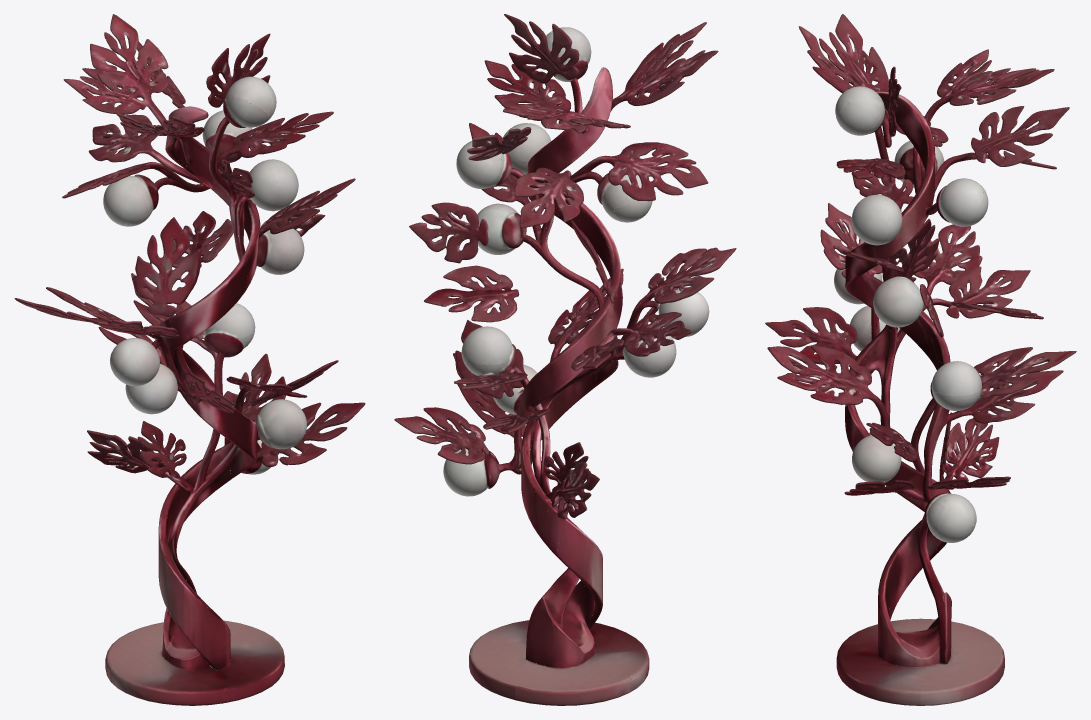
Rendered from H72-web.glb.
3 renders of one model, left to right at view 1: azimuth 30°, elevation 25°; view 2: azimuth 150°, elevation 25°; view 3: azimuth 270°, elevation 25°, orthographic. The views are drawn at different scales.
Parts seen in each view (by area): view 1: tripo_node_ddd78741-329b-42c0-b0c8-734f43a8d950; view 2: tripo_node_ddd78741-329b-42c0-b0c8-734f43a8d950; view 3: tripo_node_ddd78741-329b-42c0-b0c8-734f43a8d950.
Part boxes in pixels (x1=…): tripo_node_ddd78741-329b-42c0-b0c8-734f43a8d950: x1=14, y1=14, x2=365, y2=705; tripo_node_ddd78741-329b-42c0-b0c8-734f43a8d950: x1=394, y1=14, x2=736, y2=705; tripo_node_ddd78741-329b-42c0-b0c8-734f43a8d950: x1=765, y1=14, x2=1076, y2=705.
Bounding box in the file's own units: 0.4931 × 1 × 0.4612.
1 material, 1 textured.
